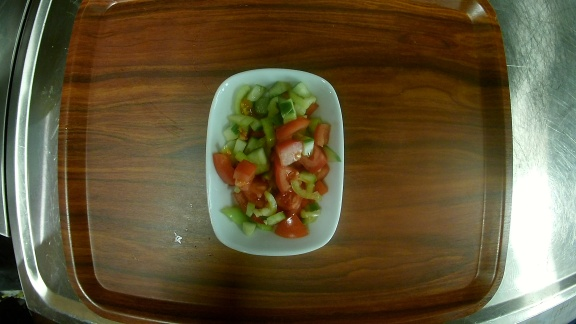cobansalata: (205, 67, 346, 257)
